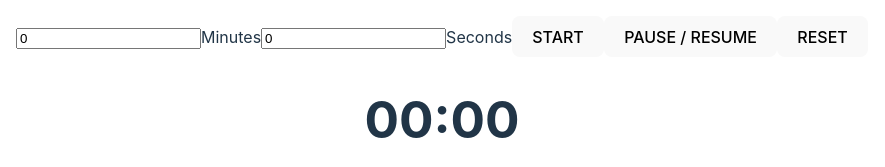
Scenario: RunningClock › timer behavior (with fake timers) › resets timer to initial state
The image size is (885, 167).
Replace the text in the number field labelled "Minutes" with "2": (108,38) [16,28,201,48]
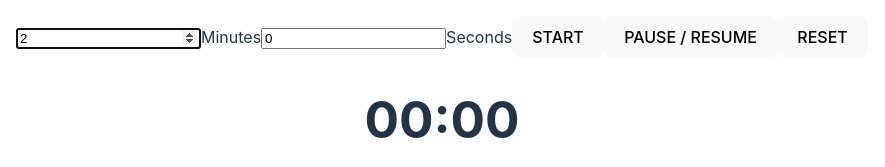
Replace the text in the number field labelled "Seconds" with "30": (354,38) [261,28,446,48]
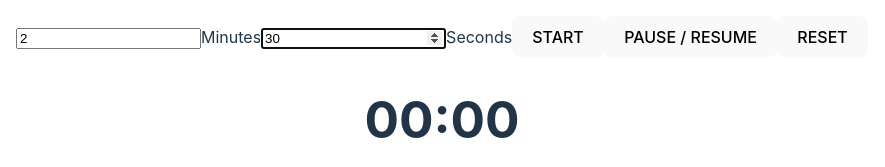
Click the button "START": (558,37) [512,16,604,57]
Wait 5000 ms
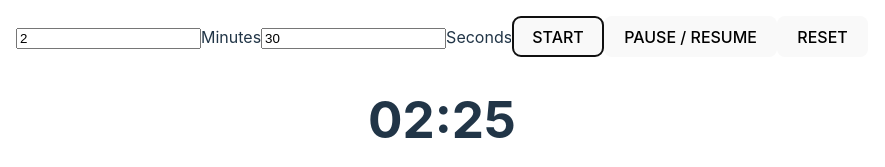
Click the button "RESET": (823,37) [777,16,868,57]
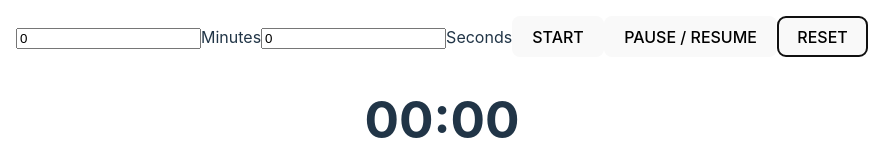
Check: the heading with test id "running-clock" reads "00:00", box [364,88,520,150]
Check: the number field labelled "Minutes" holds "0", box [16,28,201,48]
Check: the number field labelled "Seconds" holds "0", box [261,28,446,48]
